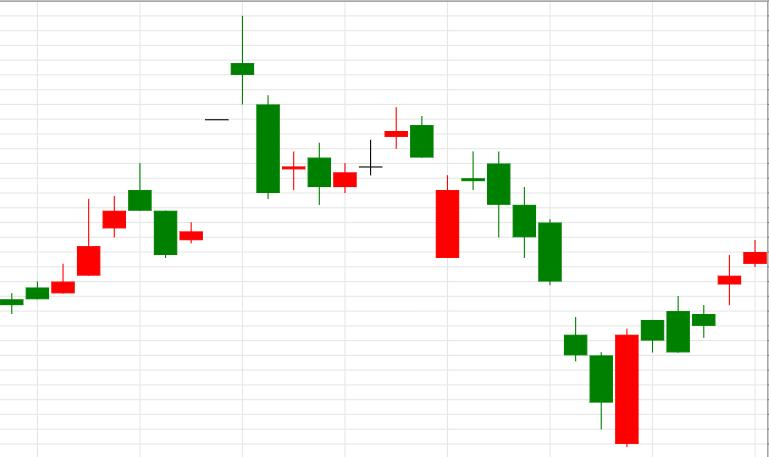bullish_engulfing_rise: (461, 150, 638, 448)
